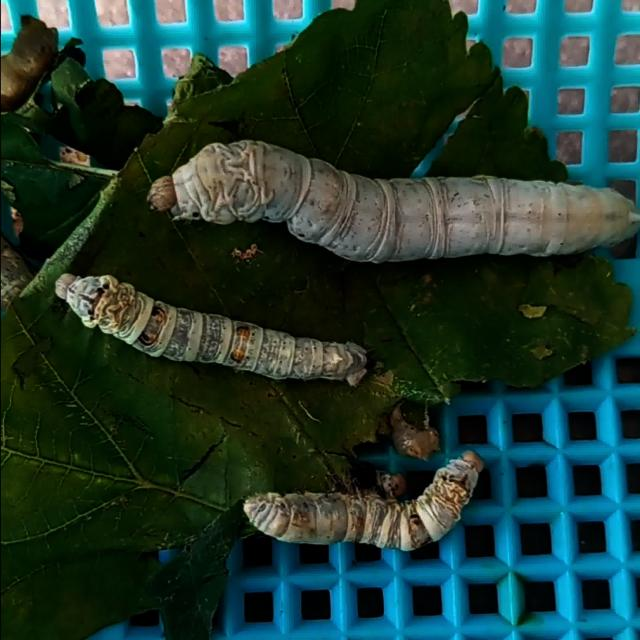Grasserie: (135, 126, 640, 265), (31, 270, 381, 394), (240, 437, 496, 562)
